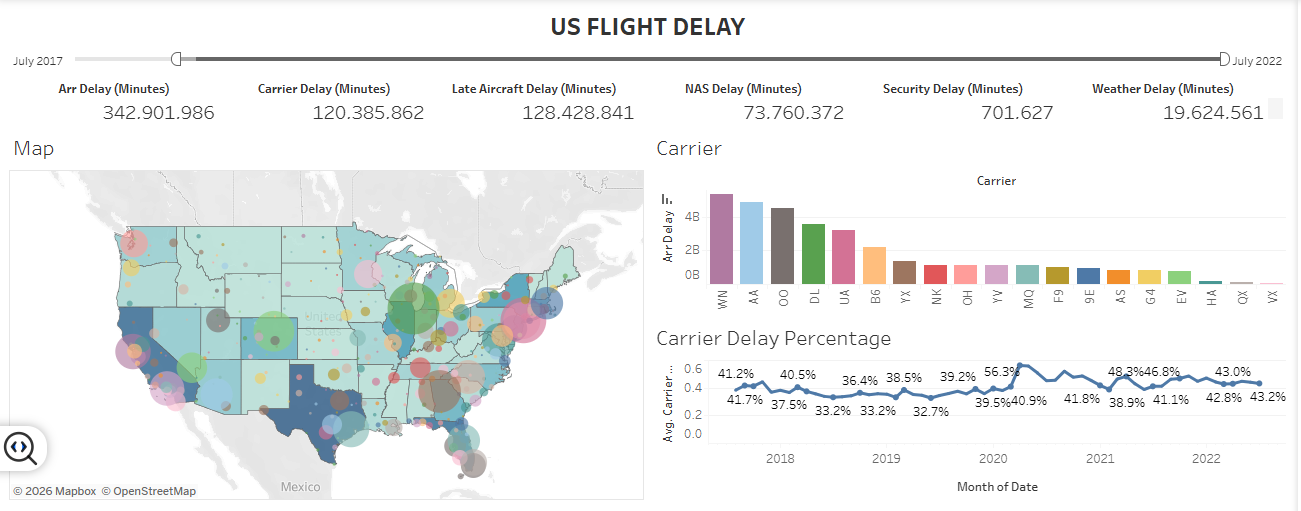

What the dashboard file says about the page in this screenshot:
{"tool":"tableau","page":{"name":"Dashboard 1","canvas":[1000,1000],"units":"permille","ordinal":0},"visuals":[{"type":"title","box":[6.9,14.2,986.1,73]},{"type":"filter","title":"Carrier Delay Percentage","param":"[federated.1sfyj8q035zgmc1dpok1g1xsvq9k].[tmn:Date:qk]","box":[6.9,87.2,986.1,54.3]},{"type":"worksheet","title":"Total Delay","mark":"Automatic","box":[6.9,141.5,986.1,95.9]},{"type":"worksheet","title":"Map","mark":"Automatic","box":[6.9,237.3,493.1,748.4]},{"type":"worksheet","title":"Carrier","mark":"Automatic","rows":["arr_delay"],"cols":["carrier"],"box":[500,237.3,493.1,374.2]},{"type":"worksheet","title":"Carrier Delay Percentage","mark":"Automatic","rows":["Calculation_0489037635256320"],"cols":["Date"],"box":[500,611.6,493.1,374.2]}]}

Visuals, with their boxes on the dashboard's canvas, which has no fixed pixel size, in thousandths of its width and height (x1, y1, x2, y2). These are canvas units, not pixel positions in the 1301x511 screenshot, which may show the page scaled, cropped or inside an application window:
title: bbox=[7, 14, 993, 87]
"Carrier Delay Percentage" filter: bbox=[7, 87, 993, 142]
"Total Delay" worksheet: bbox=[7, 142, 993, 237]
"Map" worksheet: bbox=[7, 237, 500, 986]
"Carrier" worksheet: bbox=[500, 237, 993, 612]
"Carrier Delay Percentage" worksheet: bbox=[500, 612, 993, 986]
